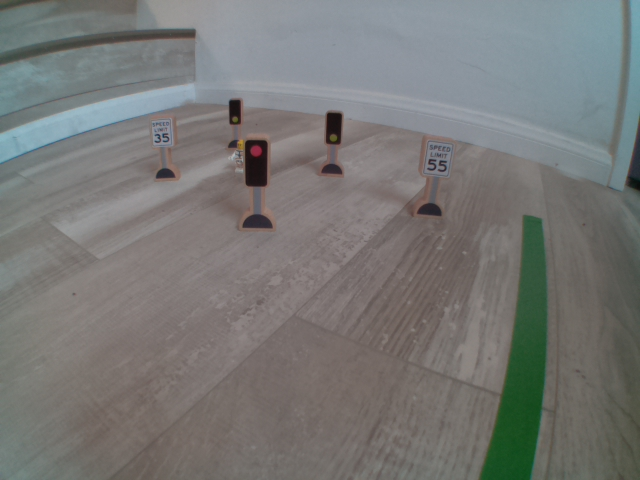Green Traffic Light: (320, 107, 351, 152), (224, 87, 243, 136)
Red Traffic Light: (247, 136, 273, 185)
Speed Limit 35: (148, 111, 177, 148)
Speed Limit 55: (416, 132, 460, 184)
person: (228, 139, 247, 174)
